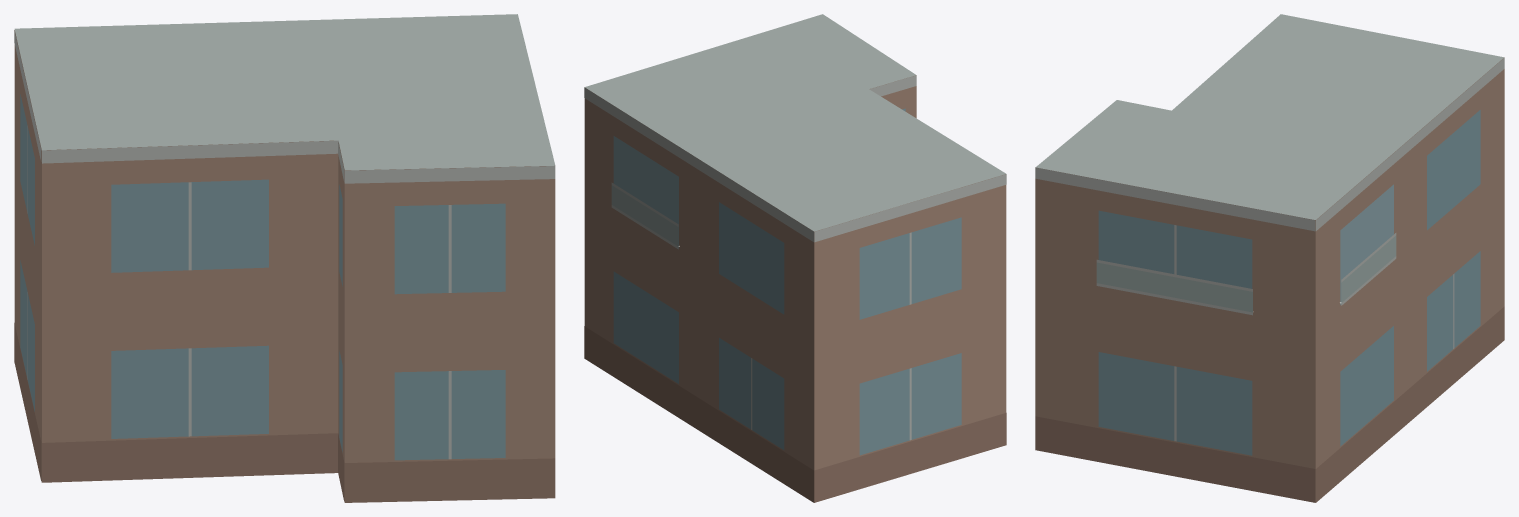
The model's file is survey-upis-32821471.glb.
3 renders of one model, left to right at view 1: azimuth 30°, elevation 25°; view 2: azimuth 150°, elevation 25°; view 3: azimuth 270°, elevation 25°, orthographic. The views are drawn at different scales.
Parts seen in each view (by area): view 1: survey-upis-32821471.tmp; view 2: survey-upis-32821471.tmp; view 3: survey-upis-32821471.tmp.
Boxes of the visible parts, x1=… form: survey-upis-32821471.tmp: x1=14, y1=14, x2=555, y2=502; survey-upis-32821471.tmp: x1=584, y1=14, x2=1006, y2=502; survey-upis-32821471.tmp: x1=1035, y1=14, x2=1504, y2=502.
Size of the model in its own units: 9.55 by 6.1 by 9.18.
